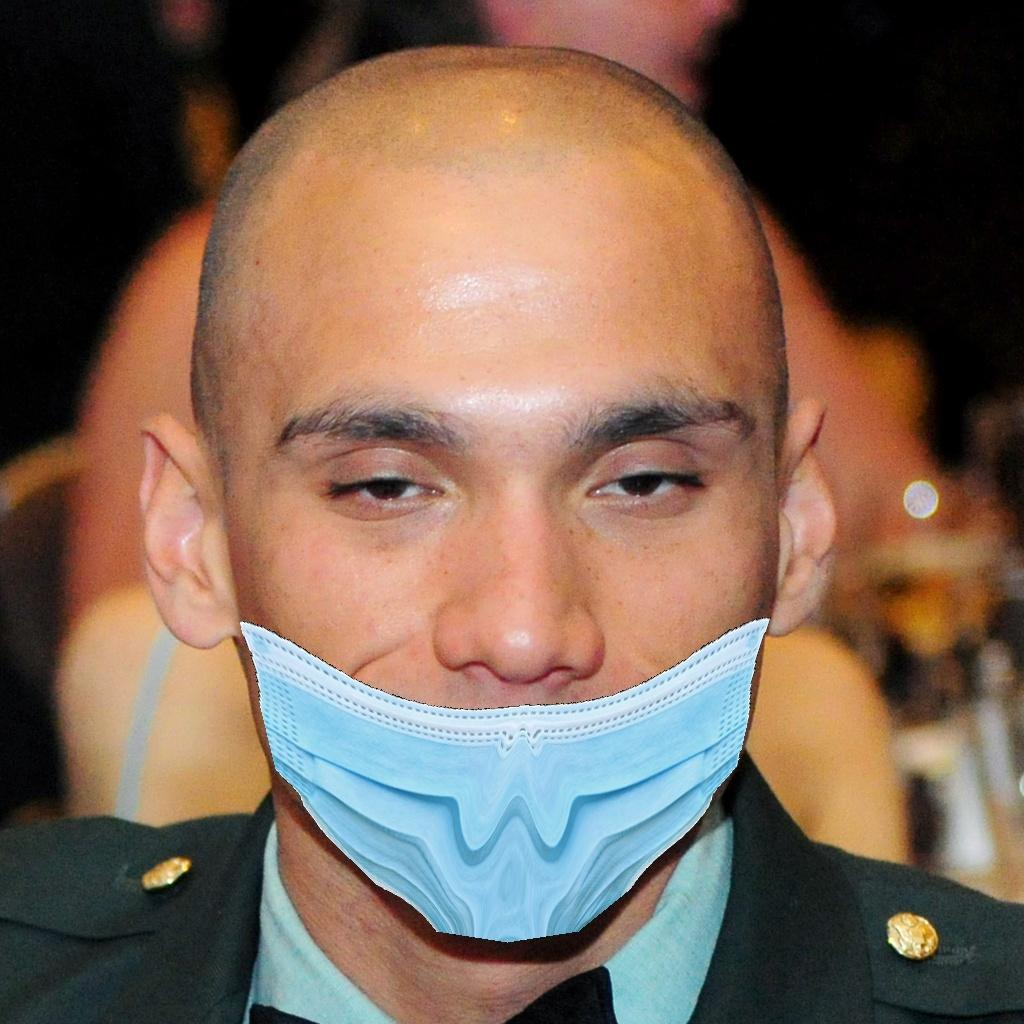Máscara Incorreta: (224, 310, 775, 902)
